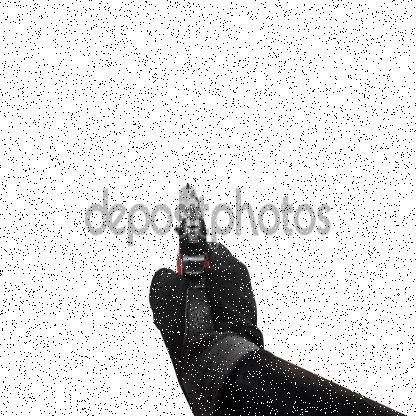pistol: (174, 178, 210, 341)
